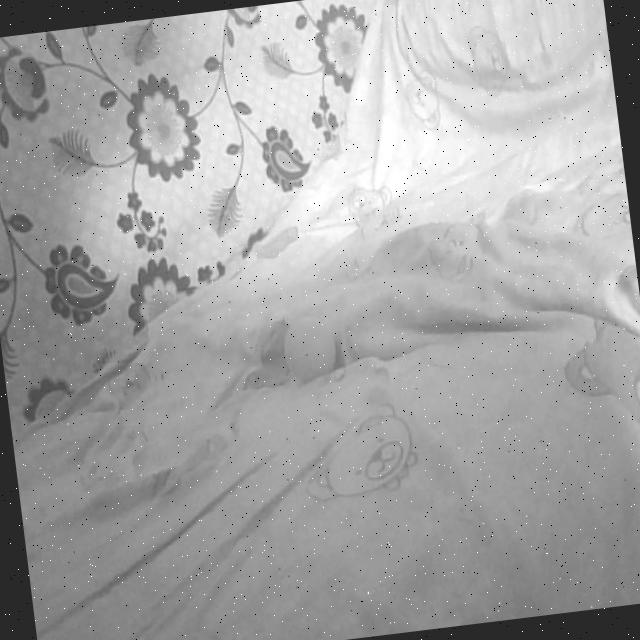ping-pong-ball: (282, 314, 336, 382)
